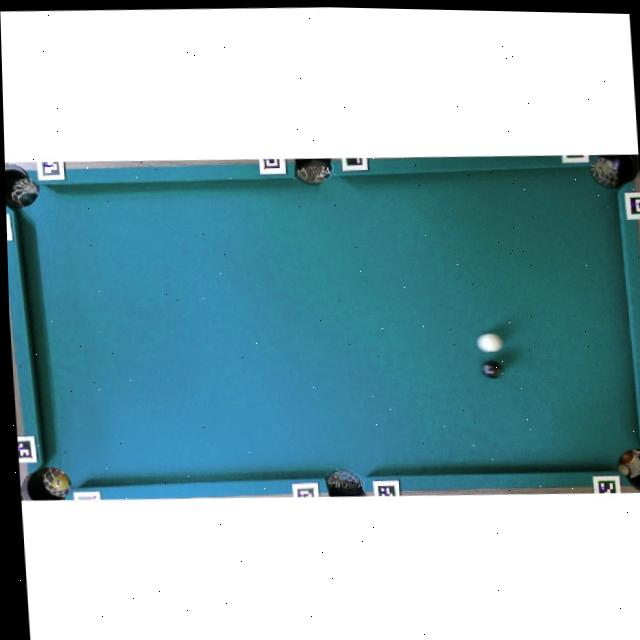cue ball: (475, 331, 503, 353)
other: (481, 359, 503, 379)
